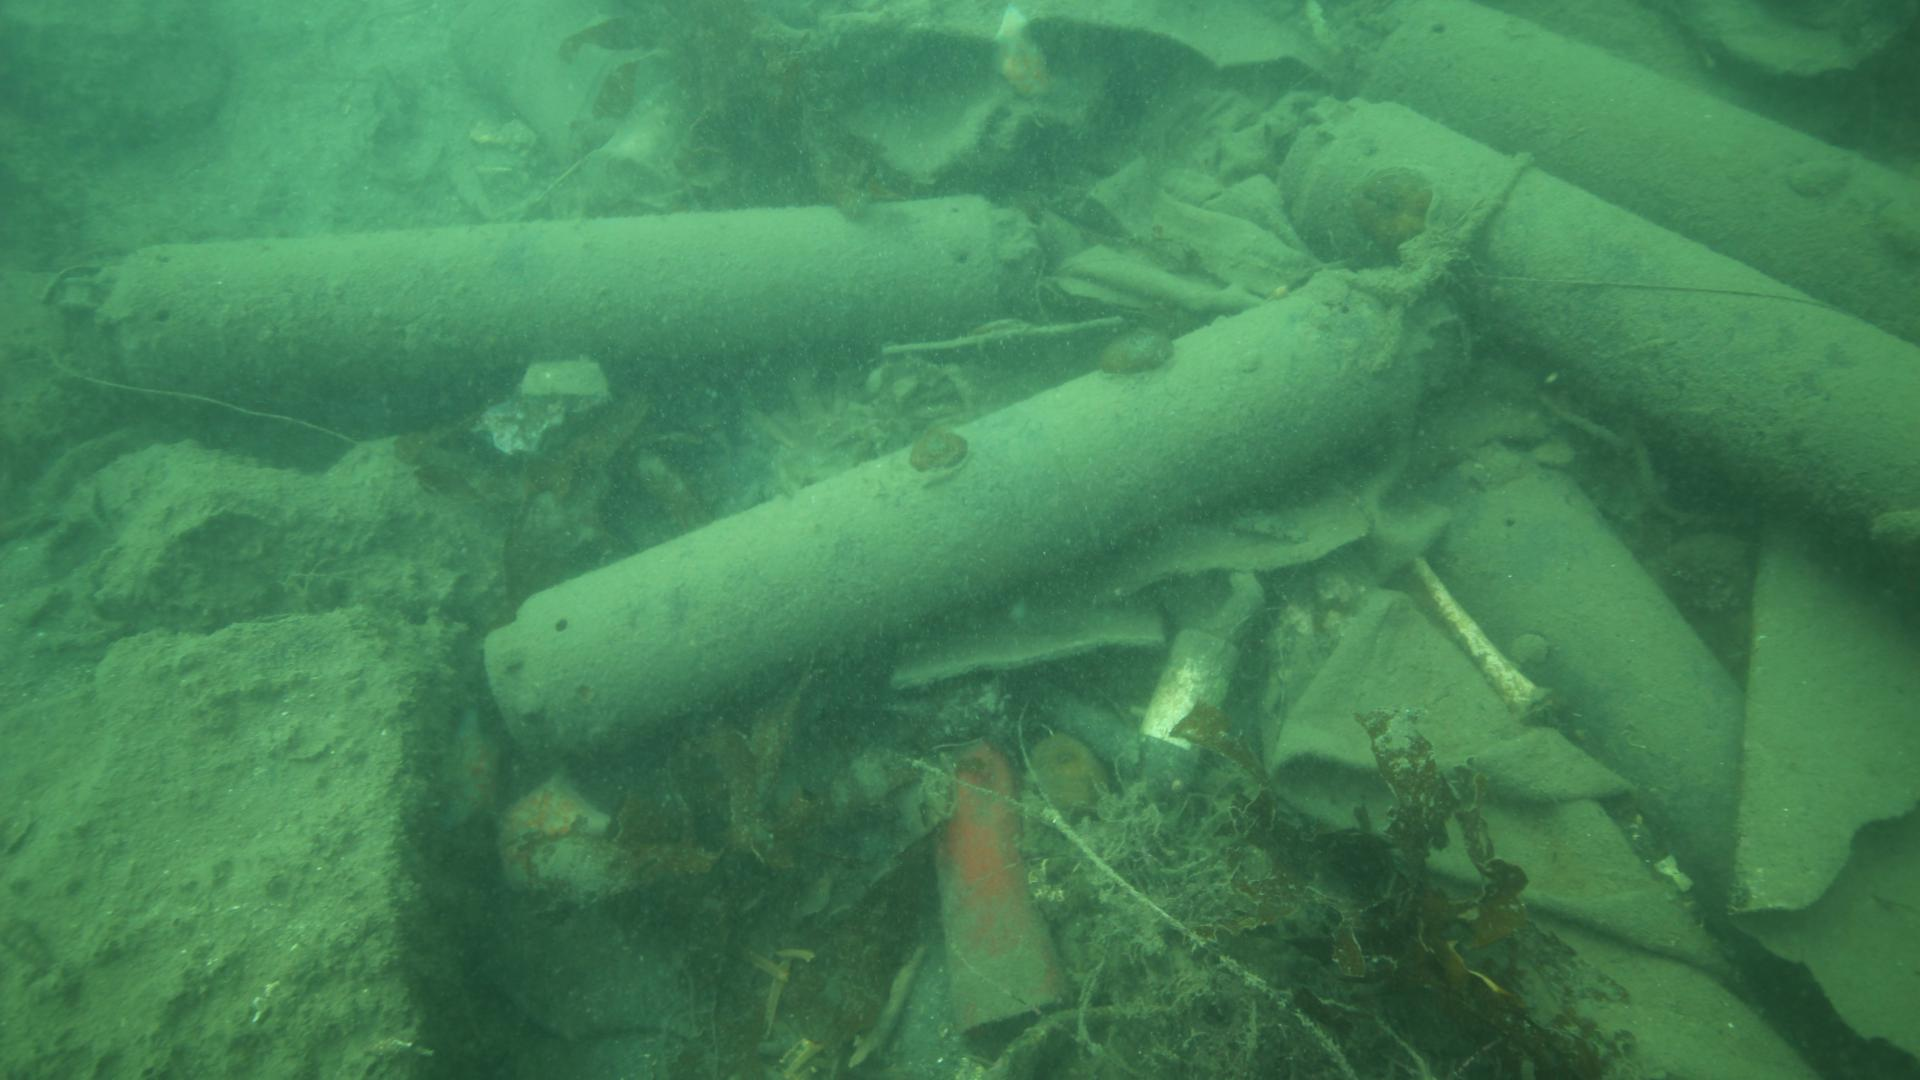bundle of ropes: (1338, 145, 1538, 373)
eel fish trap: (477, 261, 1476, 761), (1274, 95, 1920, 585), (108, 190, 1043, 411)
